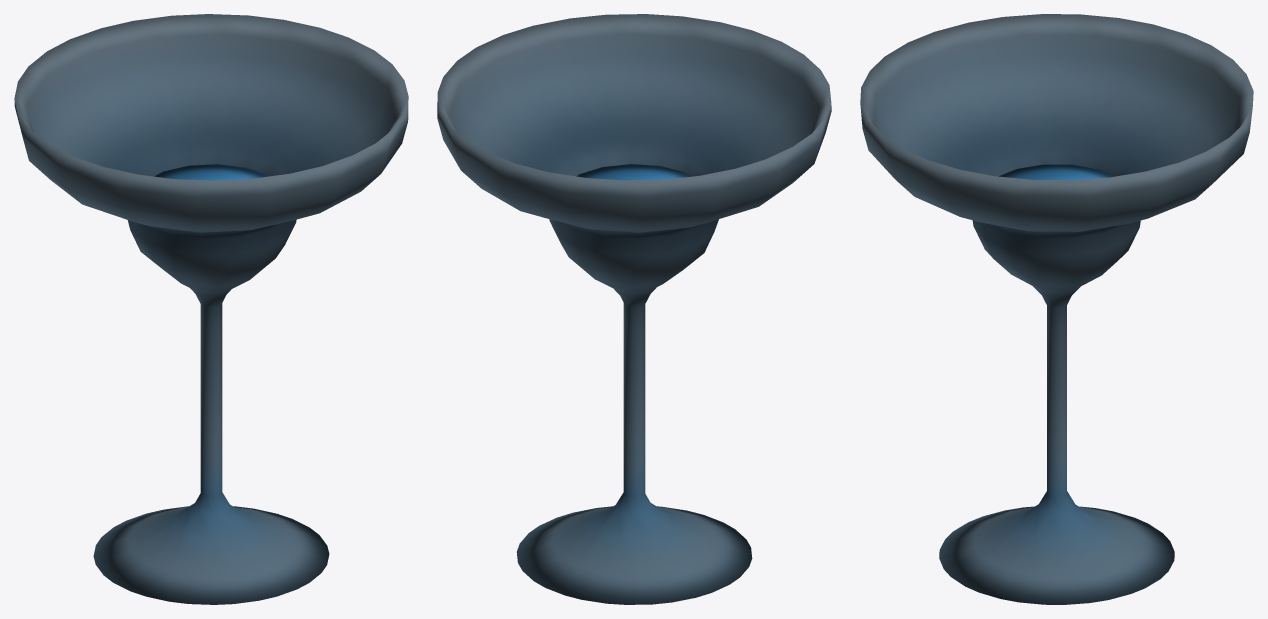
The model's file is MaGeLiTe.FBX.
3 renders of one model, left to right at view 1: azimuth 30°, elevation 25°; view 2: azimuth 150°, elevation 25°; view 3: azimuth 270°, elevation 25°, orthographic.
Parts seen in each view (by area): view 1: MaGeLiTe; view 2: MaGeLiTe; view 3: MaGeLiTe.
Boxes of the visible parts, x1,y1,x2,y2 form: MaGeLiTe: (14,14,408,604); MaGeLiTe: (437,14,831,604); MaGeLiTe: (860,14,1253,604).
Size of the model in its own units: 0.1028 by 0.1321 by 0.1028.
